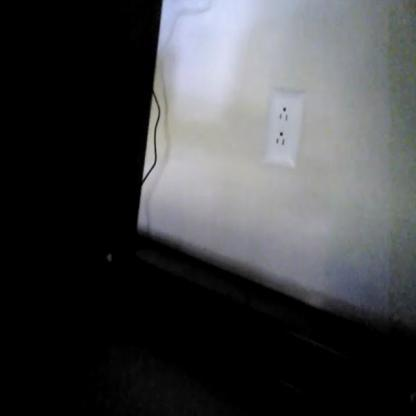OUTLET: (262, 92, 302, 170)
